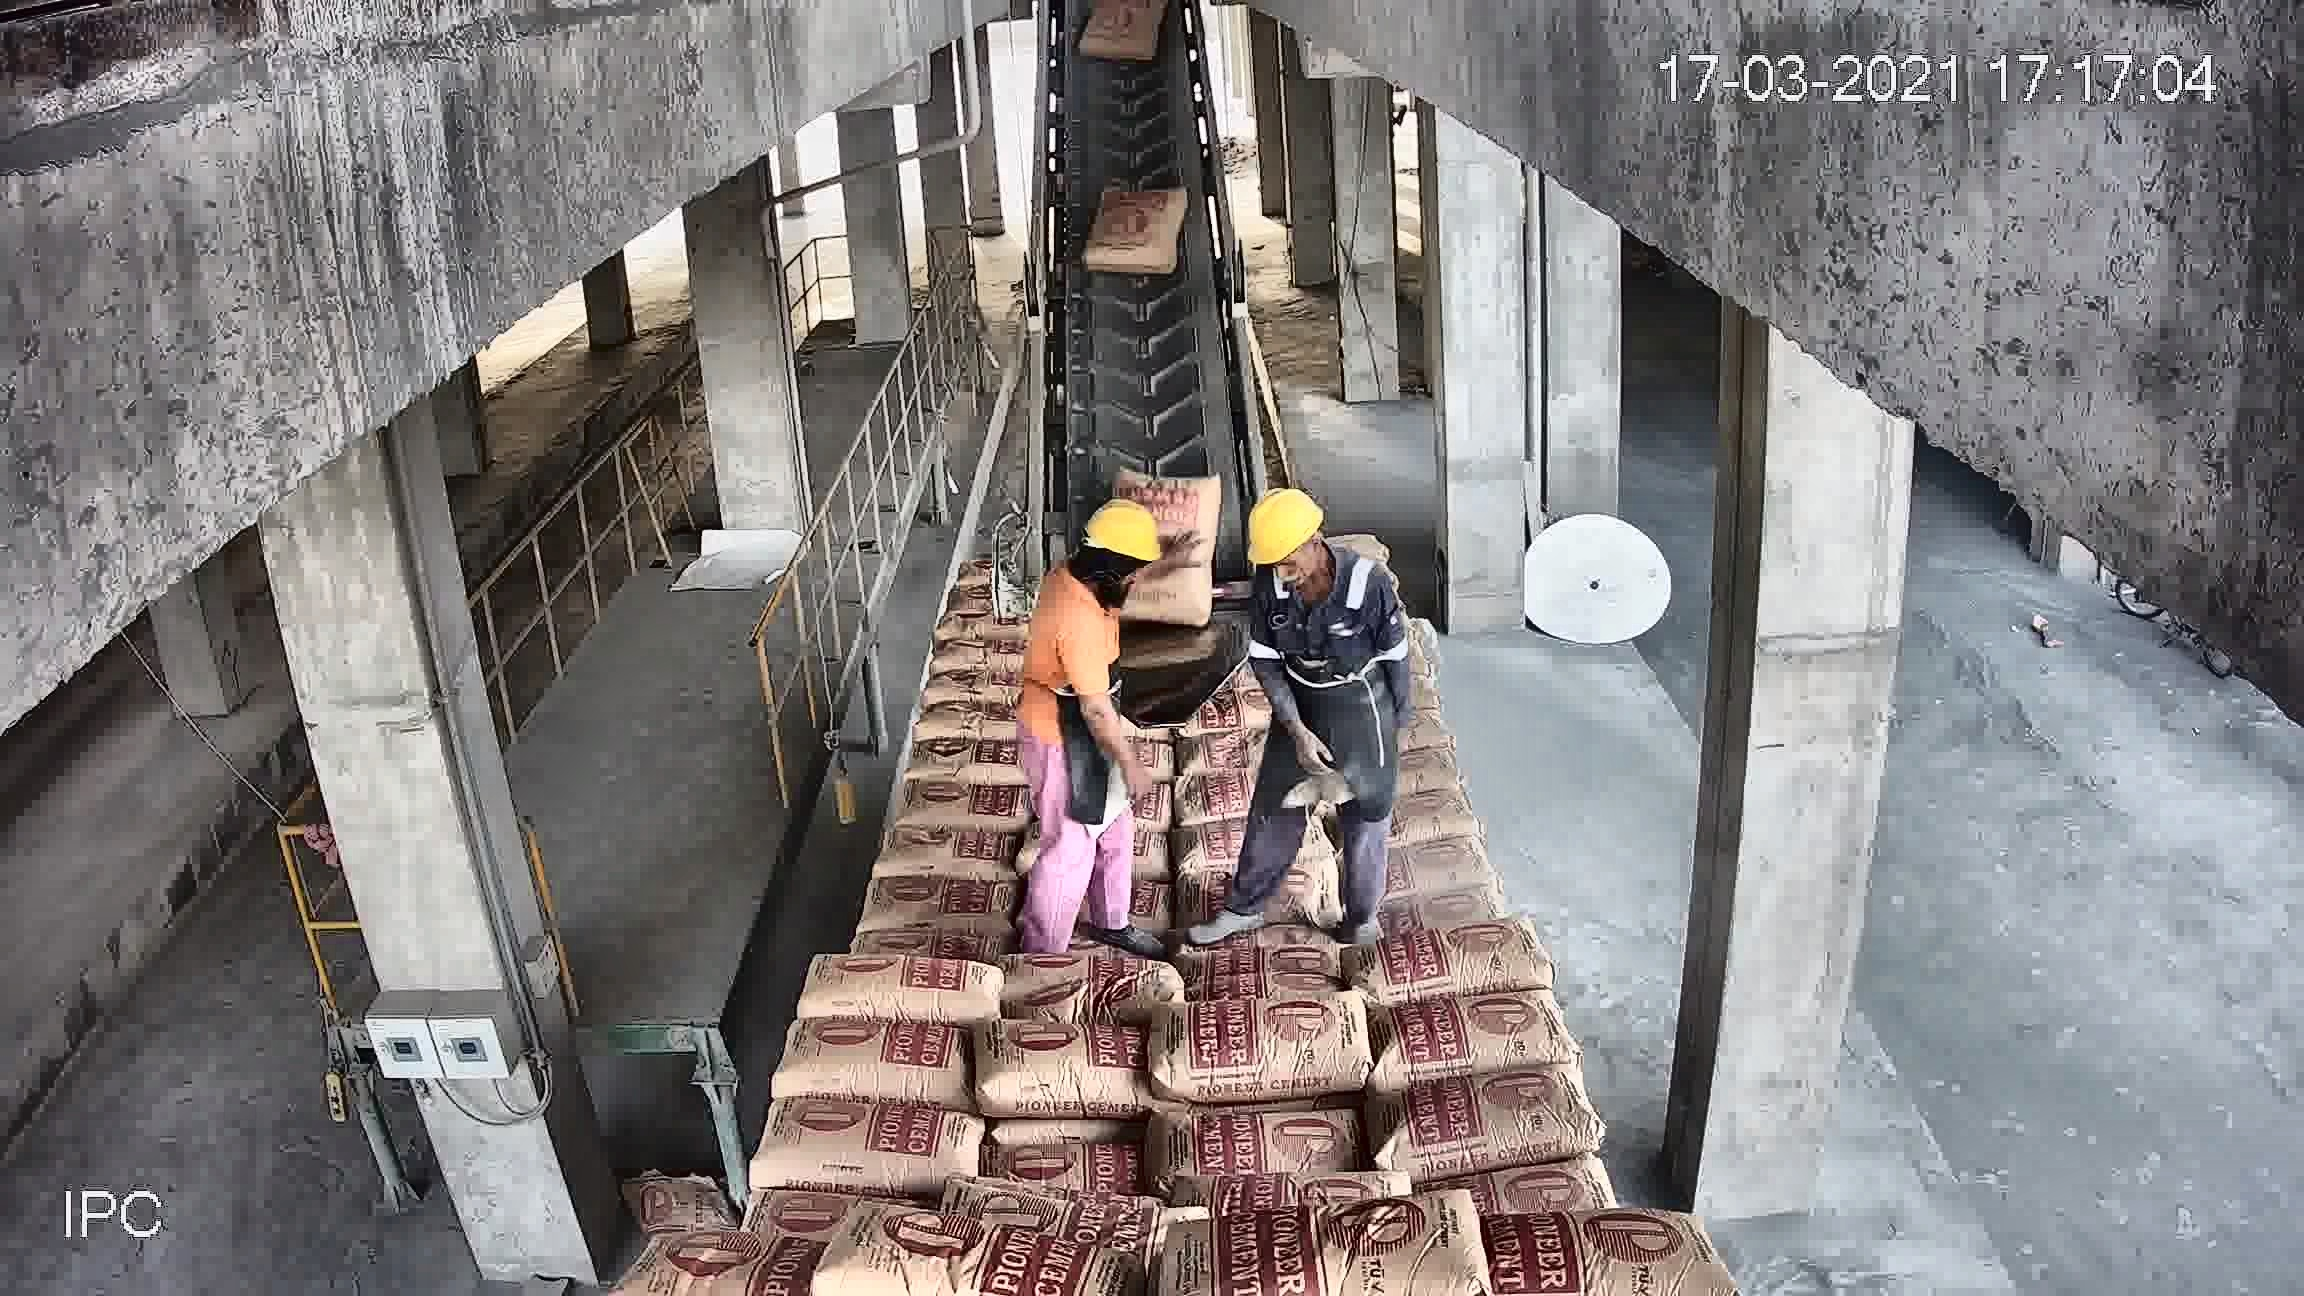bag: (1084, 177, 1192, 286)
bag_h: (804, 1203, 1133, 1294), (1207, 1207, 1524, 1296), (1158, 994, 1386, 1109), (1362, 1067, 1608, 1169), (748, 1097, 986, 1199), (1366, 983, 1570, 1100), (1459, 1203, 1704, 1290), (1351, 916, 1549, 1016), (1143, 1100, 1367, 1185), (1416, 1135, 1612, 1230), (764, 1014, 983, 1098), (973, 1022, 1147, 1124), (802, 949, 1017, 1029), (642, 1226, 839, 1296), (1176, 919, 1345, 986), (869, 873, 1019, 942), (984, 1143, 1158, 1196), (1375, 834, 1502, 907), (877, 821, 1014, 885), (889, 777, 1017, 837), (905, 729, 1029, 786), (1381, 785, 1480, 847), (910, 692, 1019, 734)
bag_v: (1097, 472, 1225, 628), (1082, 6, 1166, 65)
belt: (1022, 30, 1260, 635)
